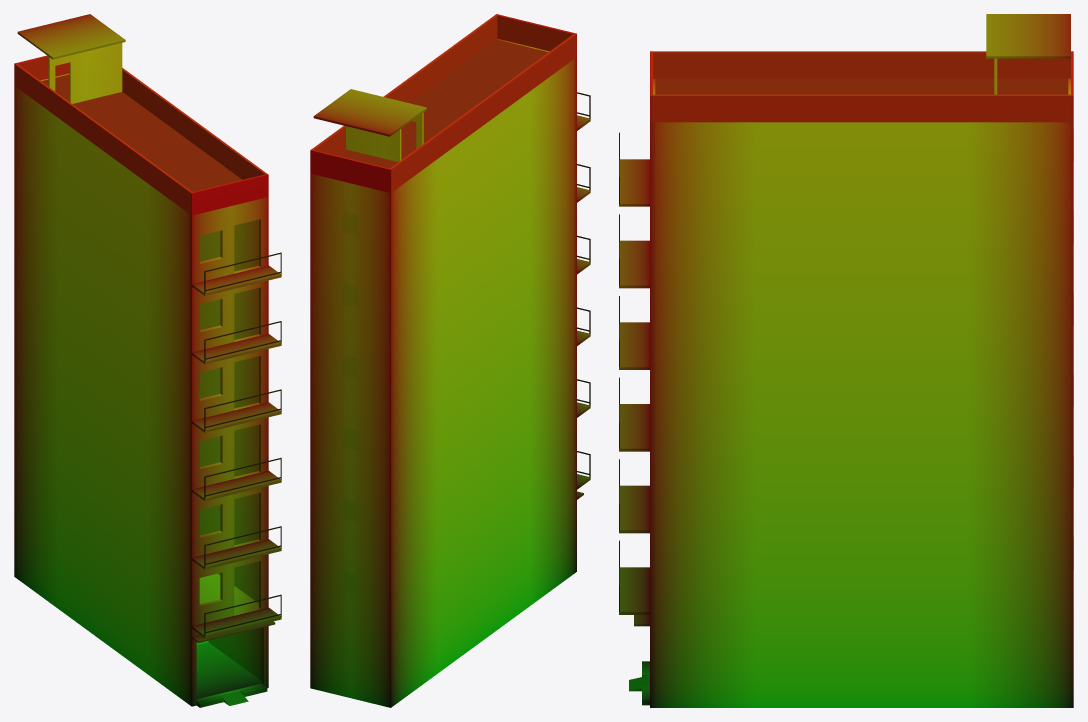
Rendered from khach_san_mini_4x16.mid.glb.
The picture shows the model from 3 angles, left to right: view 1: azimuth 30°, elevation 25°; view 2: azimuth 150°, elevation 25°; view 3: azimuth 270°, elevation 25°; orthographic projection. The views are drawn at different scales.
Parts seen in each view (by area): view 1: khach_san_mini_4x16; view 2: khach_san_mini_4x16; view 3: khach_san_mini_4x16.
Part boxes in pixels (left/top/right/bottom): khach_san_mini_4x16: left=14, top=14, right=281, bottom=707; khach_san_mini_4x16: left=310, top=14, right=590, bottom=707; khach_san_mini_4x16: left=619, top=14, right=1073, bottom=707.
Size of what is drawn, in the model's own units: 4 by 27.1 by 17.18.
